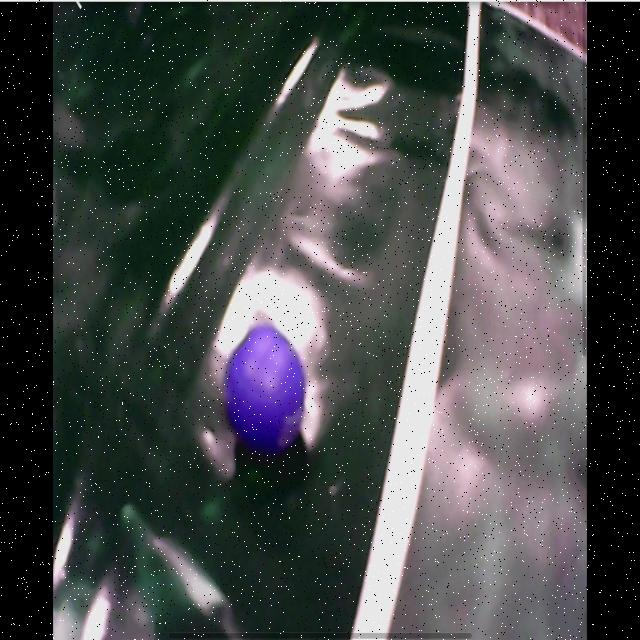ball: (226, 327, 306, 449)
